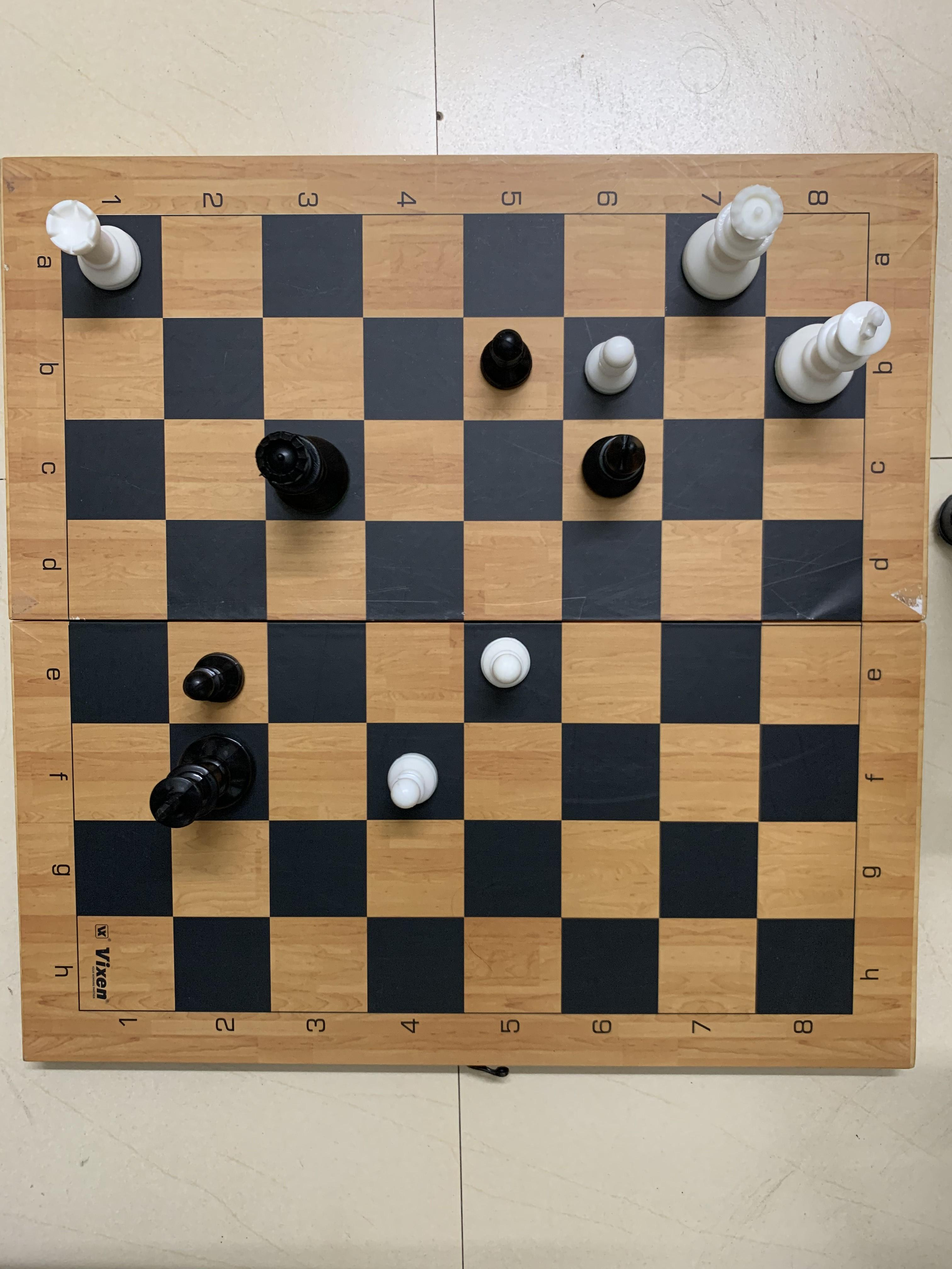black_bishop: (570, 424, 667, 522)
black_king: (143, 727, 269, 837)
black_pawn: (167, 628, 264, 716), (460, 317, 552, 406)
black_queen: (249, 422, 365, 519)
white_king: (778, 293, 896, 414)
white_pawn: (466, 625, 564, 708), (368, 732, 454, 817), (579, 329, 659, 414)
white_queen: (672, 178, 788, 322)
white_rook: (41, 197, 161, 310)
